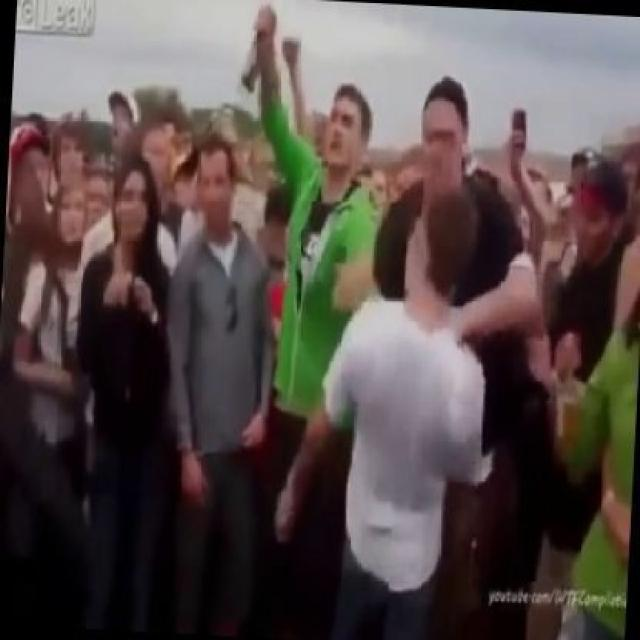fight: (281, 63, 540, 639)
non-fight: (28, 124, 285, 637)
